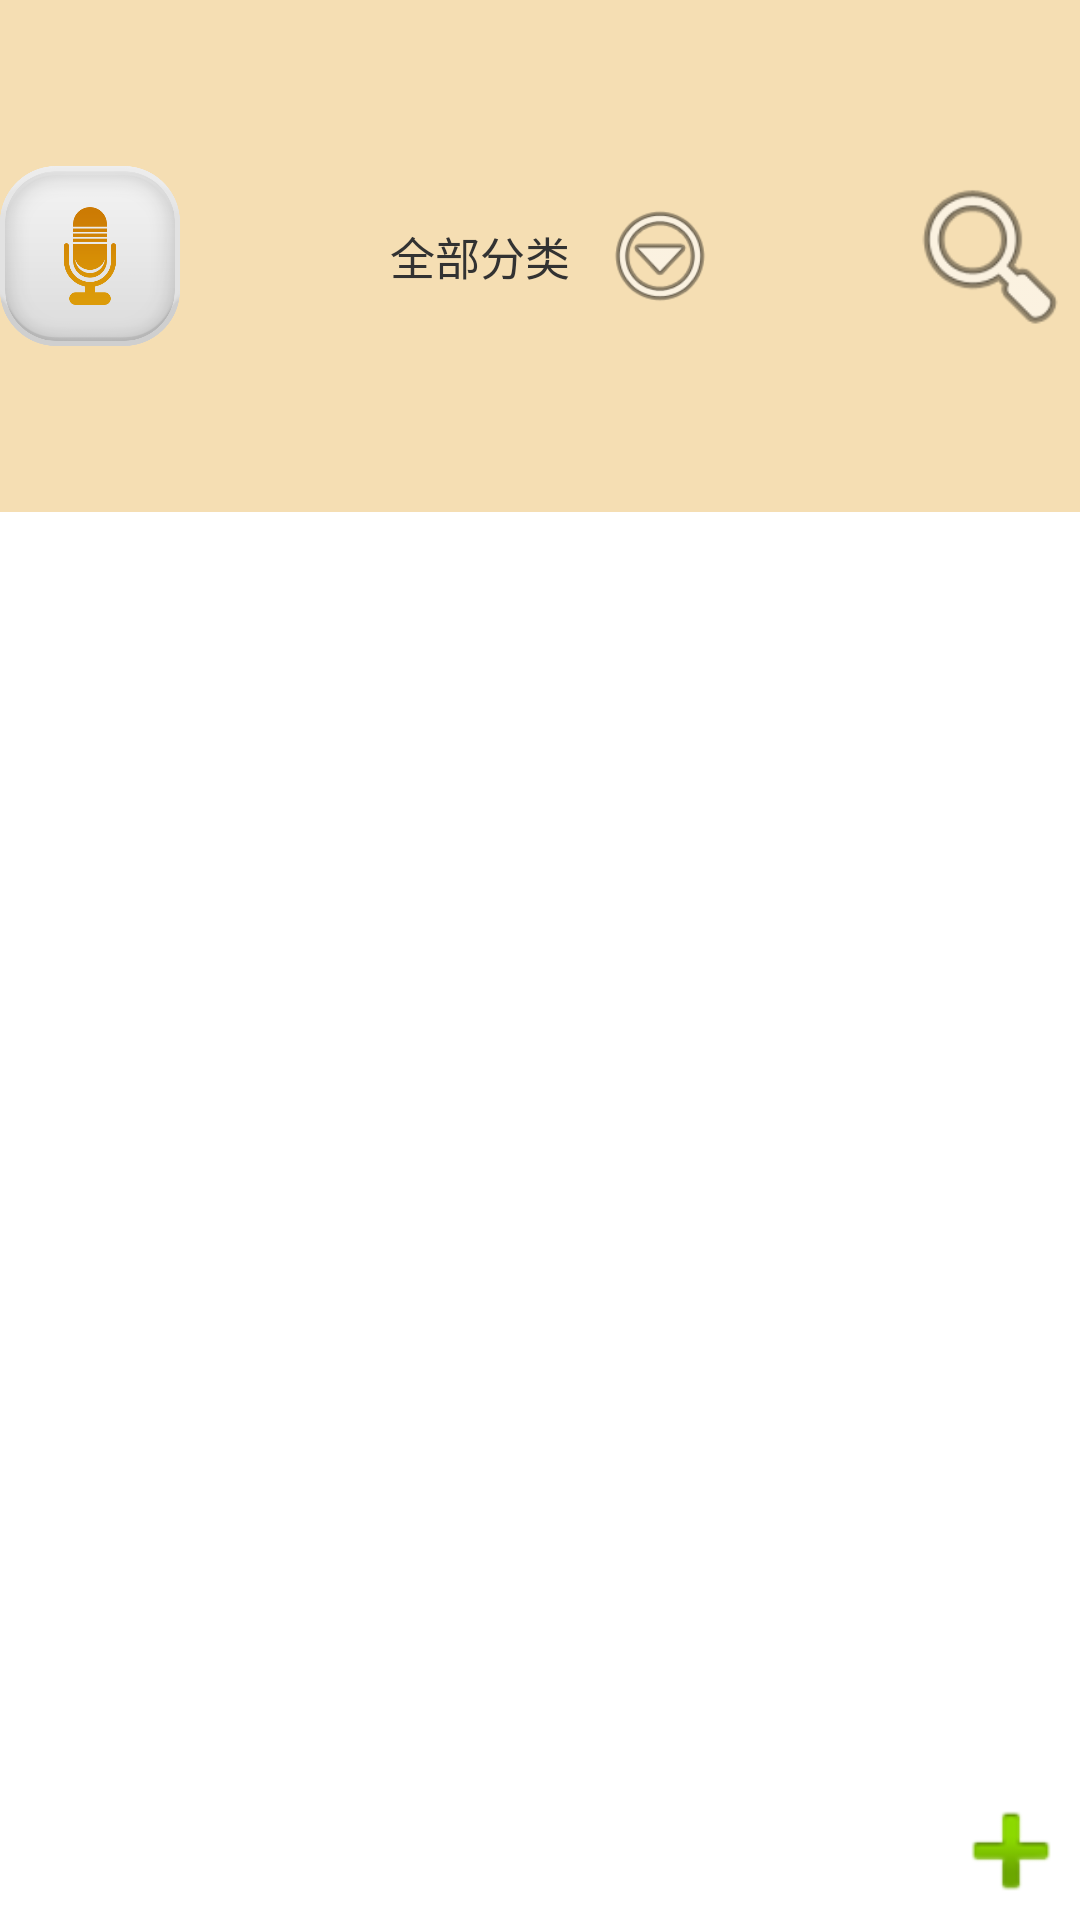

Locate icon controls on the screen. Image size 1080 × 1920, boxes as bbox=(x1, y1, x2, y2).
add: bbox=(972, 1812, 1050, 1890)
more: bbox=(615, 212, 705, 301)
search: bbox=(923, 190, 1057, 324)
